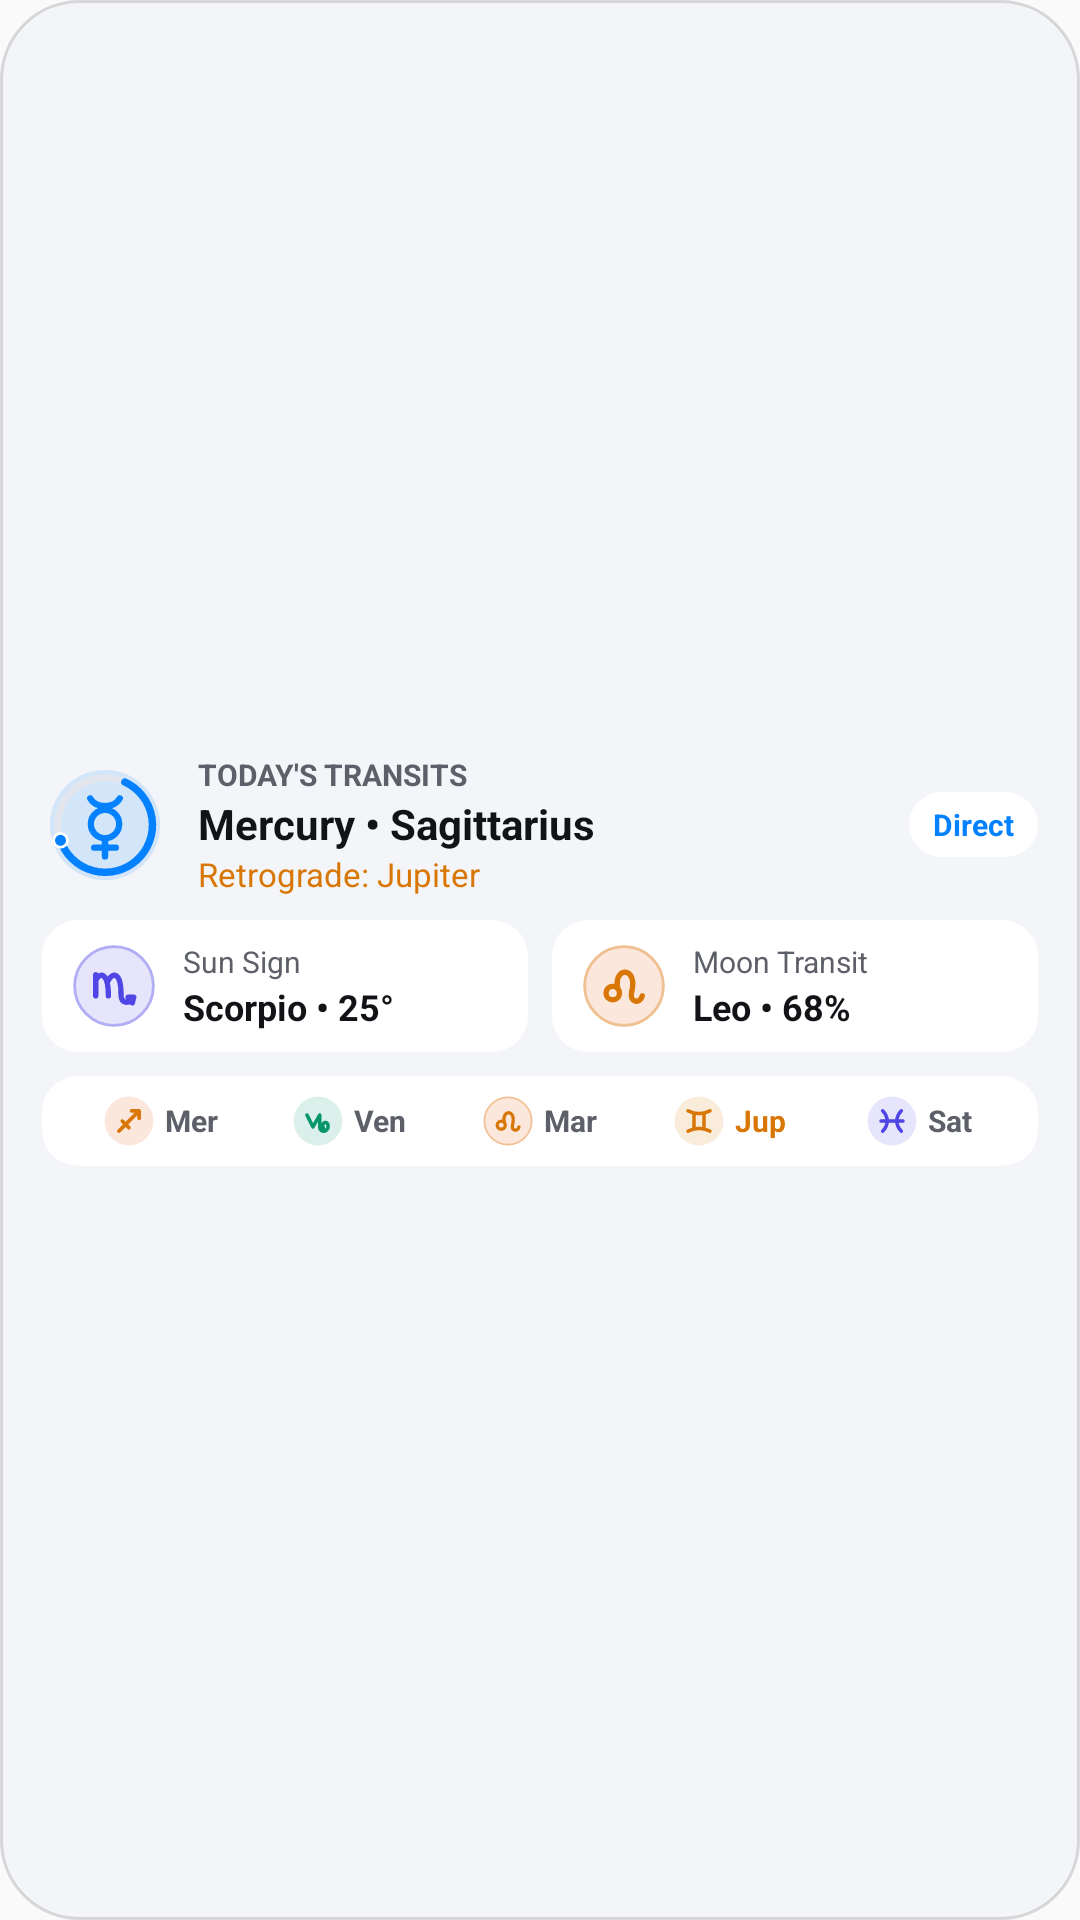

Icon click points for this 1080×1920 phone screenshot, format (x,y):
astrology: (105,825)
